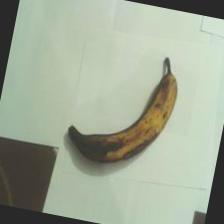Banana Rotten: (122, 43, 189, 177), (48, 116, 174, 182)
